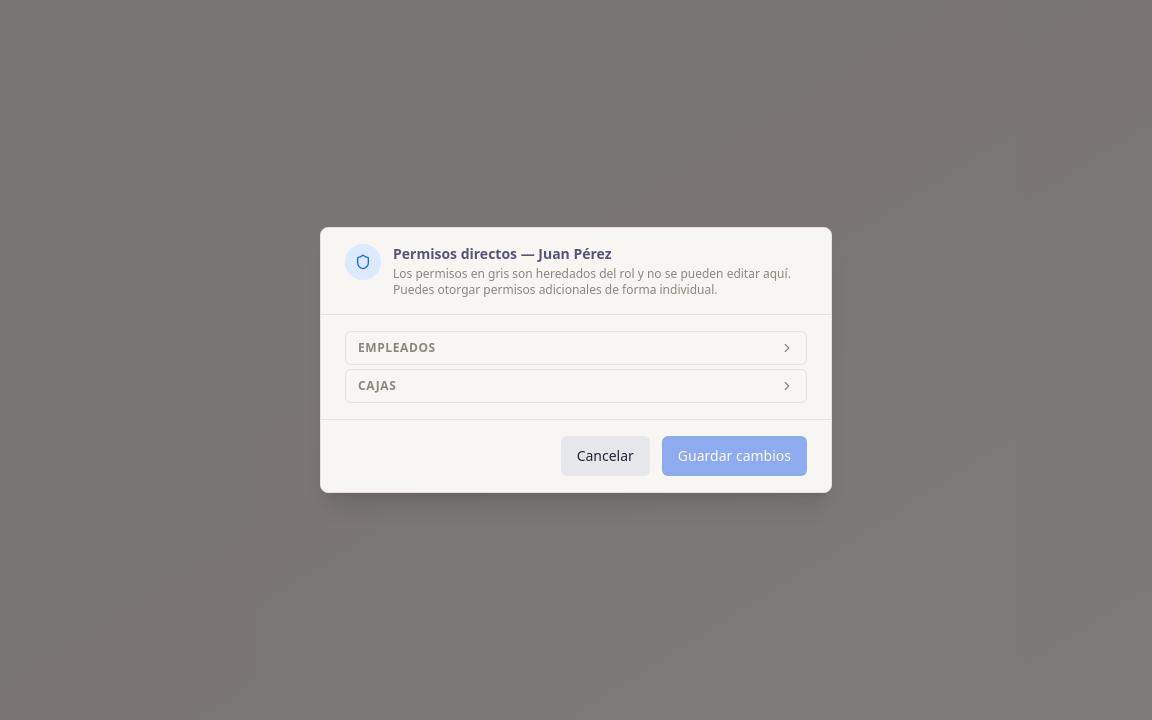
Scenario: PermissionManagerDialog › clicking a group header expands it and shows permissions
The width and height of the screenshot is (1152, 720).
What coordinates should you click on to do the following:
click the button "Empleados"
I would click on:
 (397, 348)
Its box is [346,332,806,364].
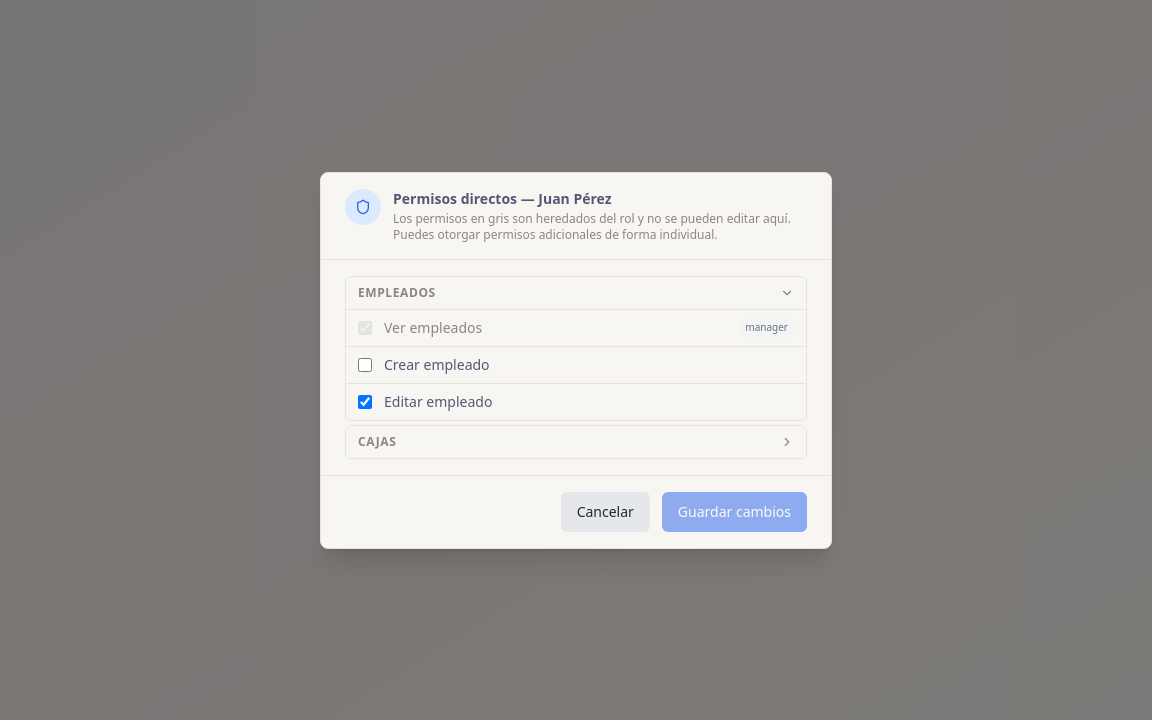
Expected: the text "Ver empleados" is shown, [384,318,482,336]
Expected: the text "Crear empleado" is shown, [384,354,490,374]
Expected: the text "Editar empleado" is shown, [384,392,492,410]
